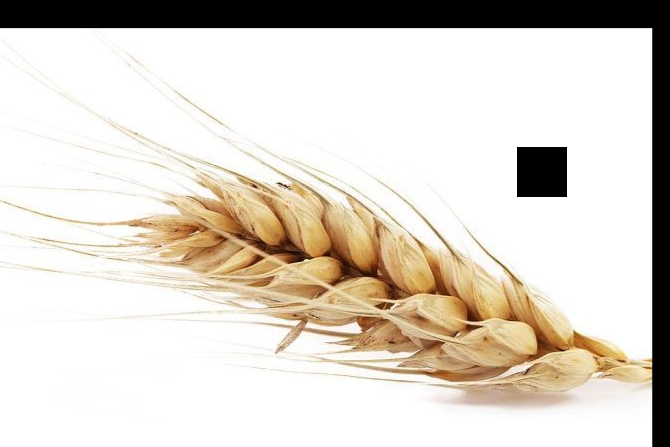wheat: (79, 125, 634, 381)
